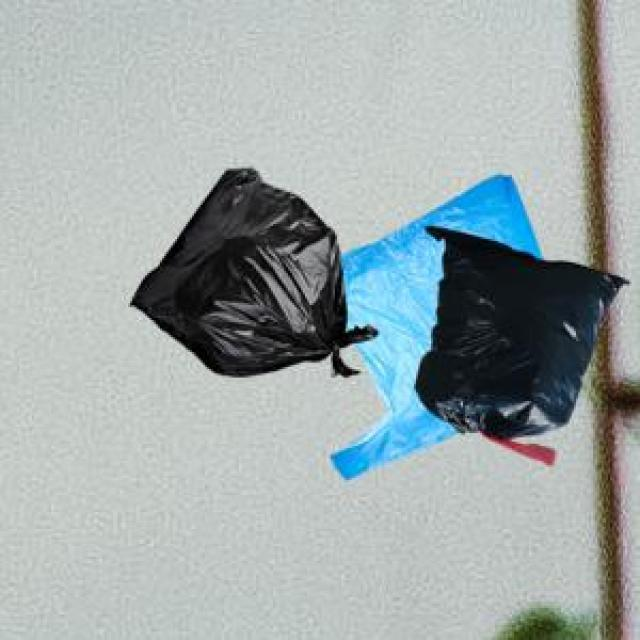miscellaneous trash: (126, 164, 373, 373), (412, 222, 625, 461)
